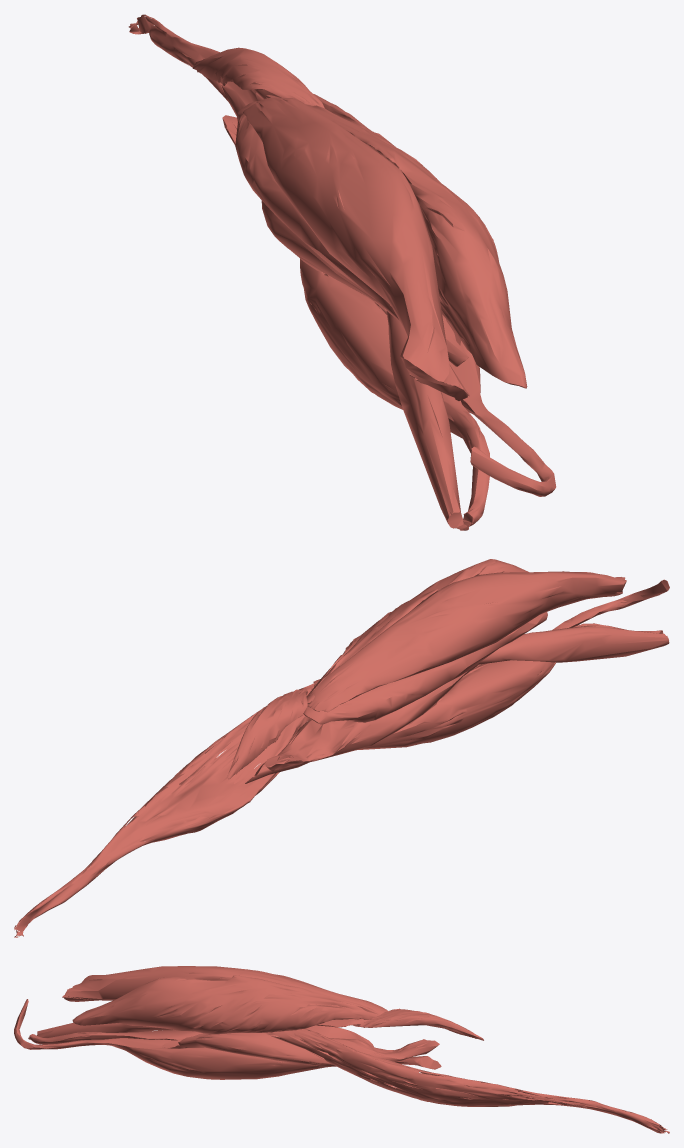
The model's file is upperarmm.glb.
The picture shows the model from 3 angles, top to bottom: view 1: azimuth 30°, elevation 25°; view 2: azimuth 150°, elevation 25°; view 3: azimuth 270°, elevation 25°; orthographic projection. The views are drawn at different scales.
Parts seen in each view (by area): view 1: long head of left triceps brachii, lateral head of left triceps brachii, short head of left biceps brachii, left coracobrachialis, medial head of left triceps brachii, long head of left biceps brachii, left anconeus, left brachioradialis, left brachialis; view 2: long head of left triceps brachii, left brachioradialis, short head of left biceps brachii, left coracobrachialis, left brachialis, medial head of left triceps brachii, left anconeus, lateral head of left triceps brachii, long head of left biceps brachii; view 3: lateral head of left triceps brachii, left brachioradialis, long head of left biceps brachii, left brachialis, long head of left triceps brachii, left anconeus, short head of left biceps brachii, left coracobrachialis, medial head of left triceps brachii.
Part boxes in pixels (x1,y1,x2,y2): long head of left triceps brachii: (243, 97, 469, 400); lateral head of left triceps brachii: (266, 95, 527, 388); short head of left biceps brachii: (300, 258, 489, 526); left coracobrachialis: (386, 311, 468, 530); medial head of left triceps brachii: (235, 101, 468, 366); long head of left biceps brachii: (449, 341, 556, 496); left anconeus: (192, 47, 324, 108); left brachioradialis: (128, 14, 371, 130); left brachialis: (222, 115, 461, 345); long head of left triceps brachii: (307, 571, 626, 712); left brachioradialis: (14, 683, 314, 937); short head of left biceps brachii: (356, 623, 664, 750); left coracobrachialis: (477, 625, 669, 664); left brachialis: (265, 664, 478, 771); medial head of left triceps brachii: (303, 612, 547, 724); left anconeus: (227, 688, 307, 779); lateral head of left triceps brachii: (306, 559, 528, 703); long head of left biceps brachii: (245, 579, 669, 783); lateral head of left triceps brachii: (72, 975, 386, 1034); left brachioradialis: (264, 1029, 669, 1133); long head of left biceps brachii: (14, 999, 441, 1079); left brachialis: (161, 1025, 439, 1066); long head of left triceps brachii: (62, 966, 387, 1014); left anconeus: (359, 1008, 483, 1040); short head of left biceps brachii: (28, 1030, 202, 1044); left coracobrachialis: (28, 1022, 193, 1039); medial head of left triceps brachii: (316, 1018, 368, 1027).
Bounding box in the file's own units: 150 × 104 × 530.
